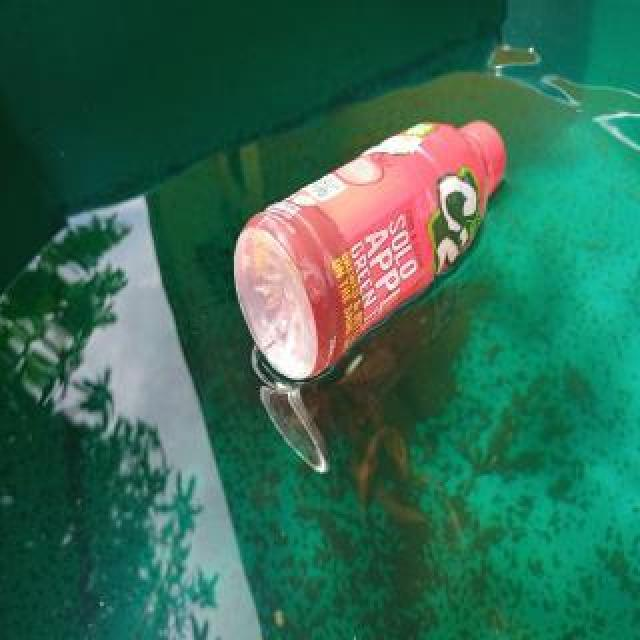bottle: (234, 118, 508, 380)
